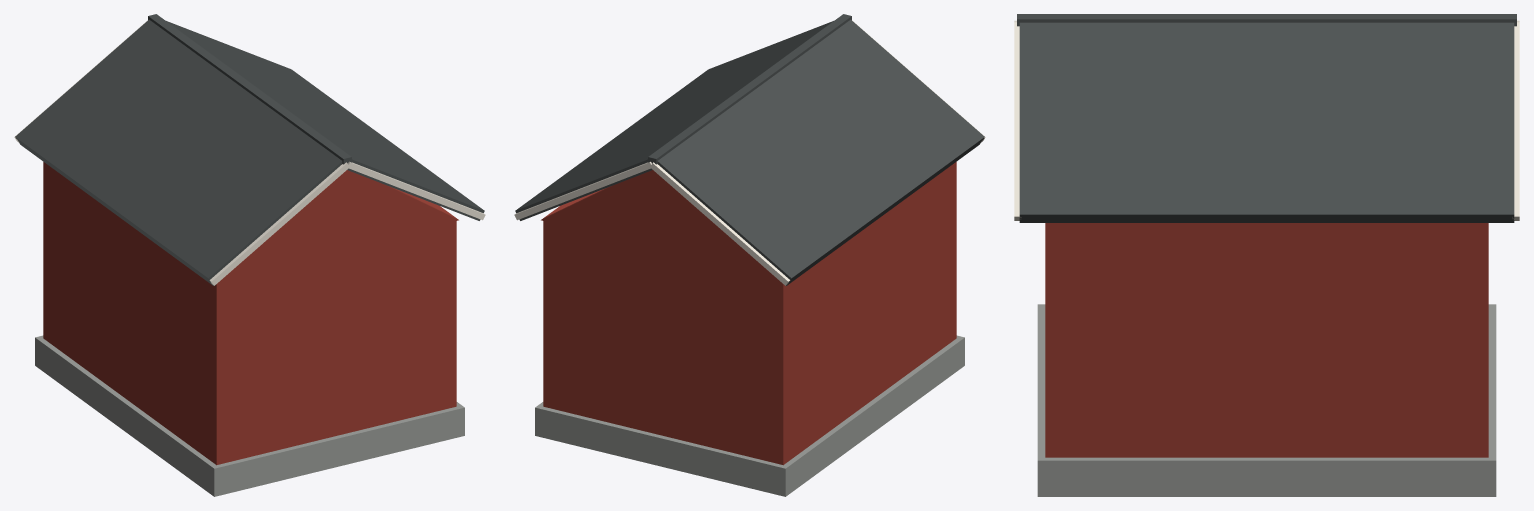
File: norway-house-red-white_lod1.glb
3 renders of one model, left to right at view 1: azimuth 30°, elevation 25°; view 2: azimuth 150°, elevation 25°; view 3: azimuth 270°, elevation 25°, orthographic. The views are drawn at different scales.
Visible parts, largest first — view 1: RF_House_Walls, RF_House_RoofA, RF_House_Foundation, RF_House_Gables, RF_House_RoofB, RF_House_RidgeCap, RF_House_VergeLeftFront, RF_House_VergeRightFront; view 2: RF_House_Walls, RF_House_RoofA, RF_House_Foundation, RF_House_Gables, RF_House_RoofB, RF_House_RidgeCap, RF_House_VergeLeftRear, RF_House_VergeRightRear; view 3: RF_House_Walls, RF_House_RoofB, RF_House_Foundation, RF_House_RidgeCap, RF_House_VergeRightFront, RF_House_VergeRightRear.
Boxes of the visible parts, x1,y1,x2,y2 form: RF_House_Walls: [43, 162, 456, 465]; RF_House_RoofA: [15, 19, 342, 285]; RF_House_Foundation: [35, 335, 464, 496]; RF_House_Gables: [224, 170, 458, 277]; RF_House_RoofB: [166, 21, 484, 220]; RF_House_RidgeCap: [148, 14, 351, 164]; RF_House_VergeLeftFront: [209, 162, 349, 285]; RF_House_VergeRightFront: [348, 161, 485, 220]; RF_House_Walls: [543, 162, 956, 465]; RF_House_RoofA: [657, 19, 984, 285]; RF_House_Foundation: [535, 335, 964, 496]; RF_House_Gables: [541, 170, 775, 277]; RF_House_RoofB: [515, 21, 833, 220]; RF_House_RidgeCap: [648, 14, 851, 164]; RF_House_VergeLeftRear: [650, 162, 790, 285]; RF_House_VergeRightRear: [514, 161, 651, 220]; RF_House_Walls: [1045, 223, 1488, 457]; RF_House_RoofB: [1019, 22, 1514, 222]; RF_House_Foundation: [1037, 304, 1496, 496]; RF_House_RidgeCap: [1017, 14, 1516, 26]; RF_House_VergeRightFront: [1014, 22, 1021, 220]; RF_House_VergeRightRear: [1512, 22, 1519, 220].
Bounding box in the file's own units: 9.22 × 10.01 × 11.4.
